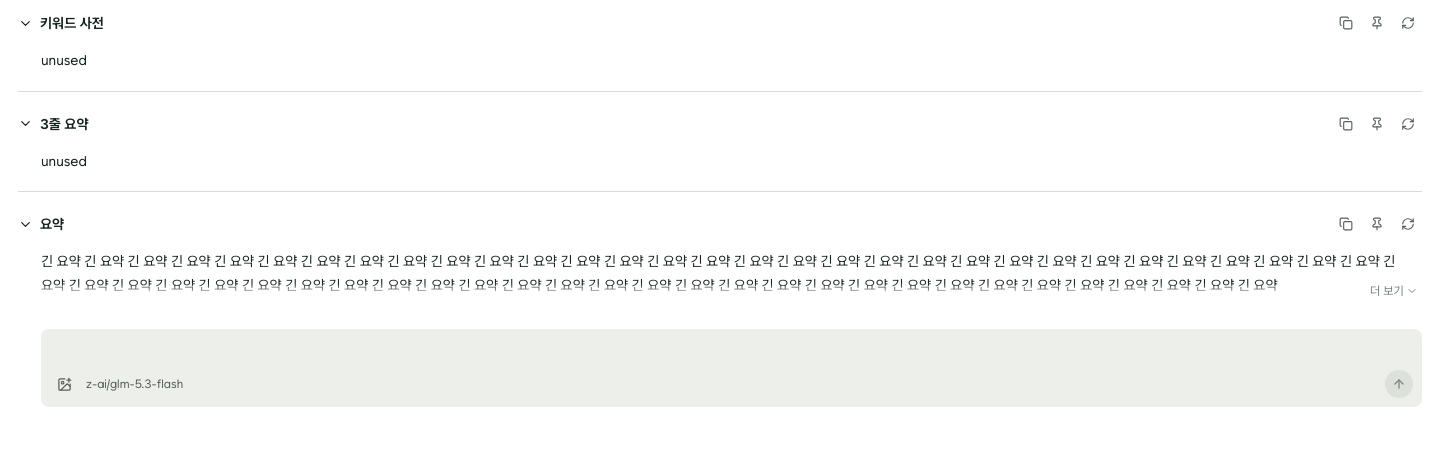
Test: AiOverviewPanel › uses a quiet text disclosure and an empty discussion composer
The image size is (1439, 452).
What coordinates should you click on to do the following:
click the button with aria-label "요약 전체 내용 펼치기"
I would click on:
 (1390, 289)
Its box is x1=1362 y1=277 x2=1418 y2=301.
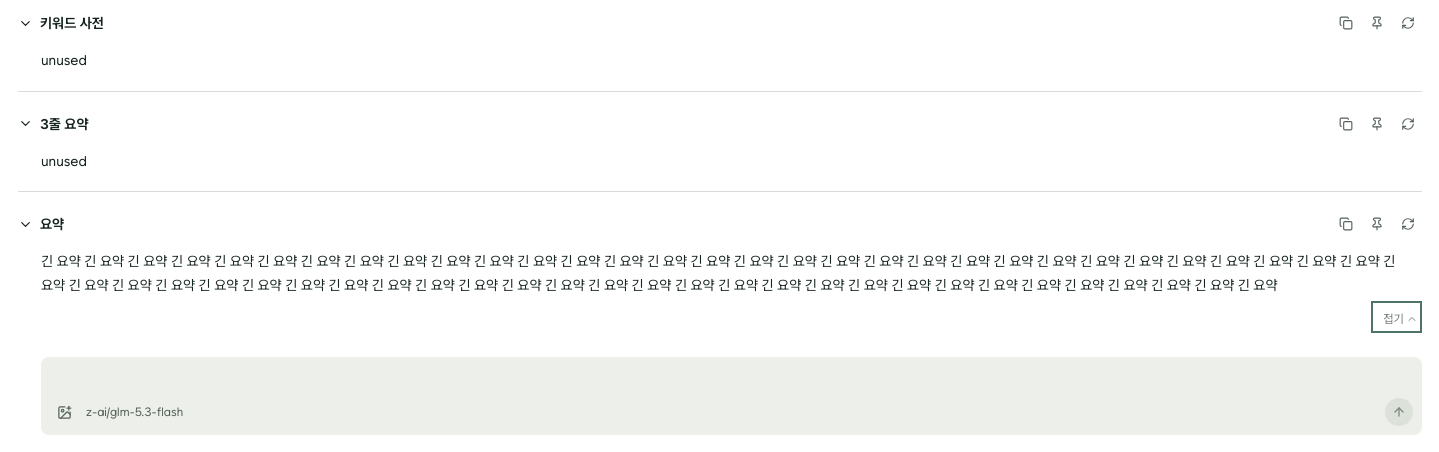
Now the button with aria-label "요약 접기" is shown, box x1=1375 y1=305 x2=1418 y2=329
What coordinates should you click on to do the following:
click the button "요약"
I would click on:
 (41, 224)
Its box is x1=18 y1=216 x2=64 y2=232.
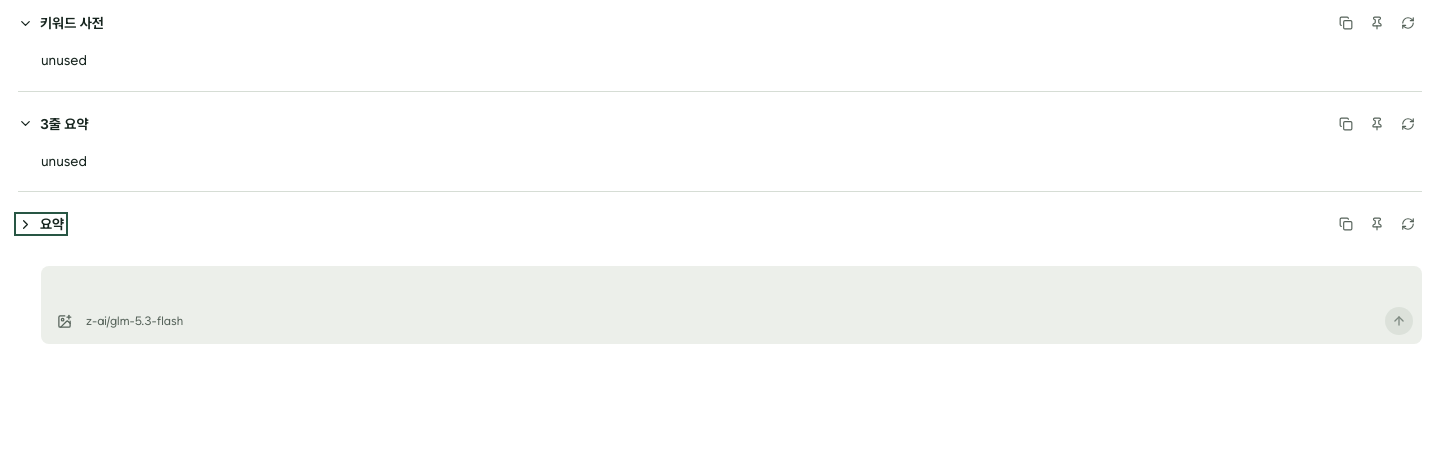
Now the button "요약" is collapsed, box x1=18 y1=216 x2=64 y2=232
